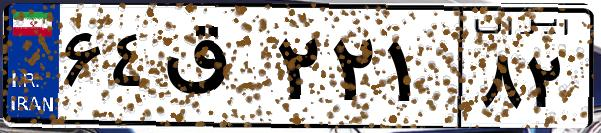1: (385, 28, 445, 110)
2: (270, 28, 330, 110), (330, 28, 385, 110), (525, 38, 570, 115)
4: (110, 28, 158, 98)
6: (57, 26, 110, 100)
8: (475, 38, 525, 113)
ق: (158, 20, 270, 120)
